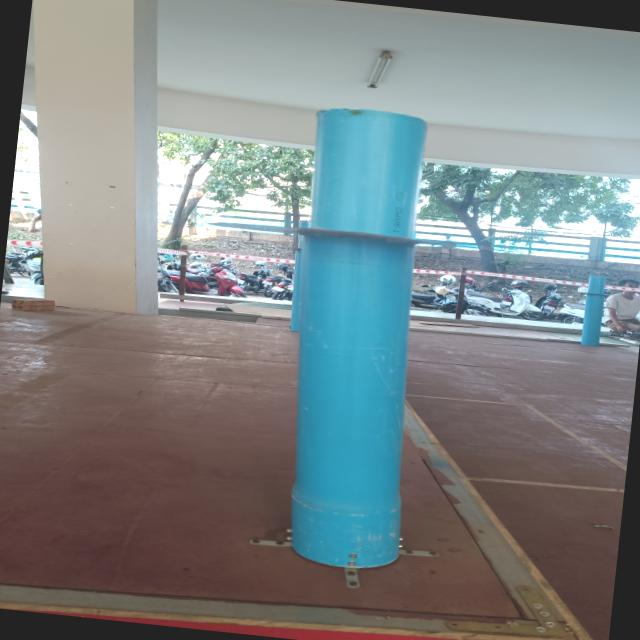pole: (174, 86, 553, 382)
